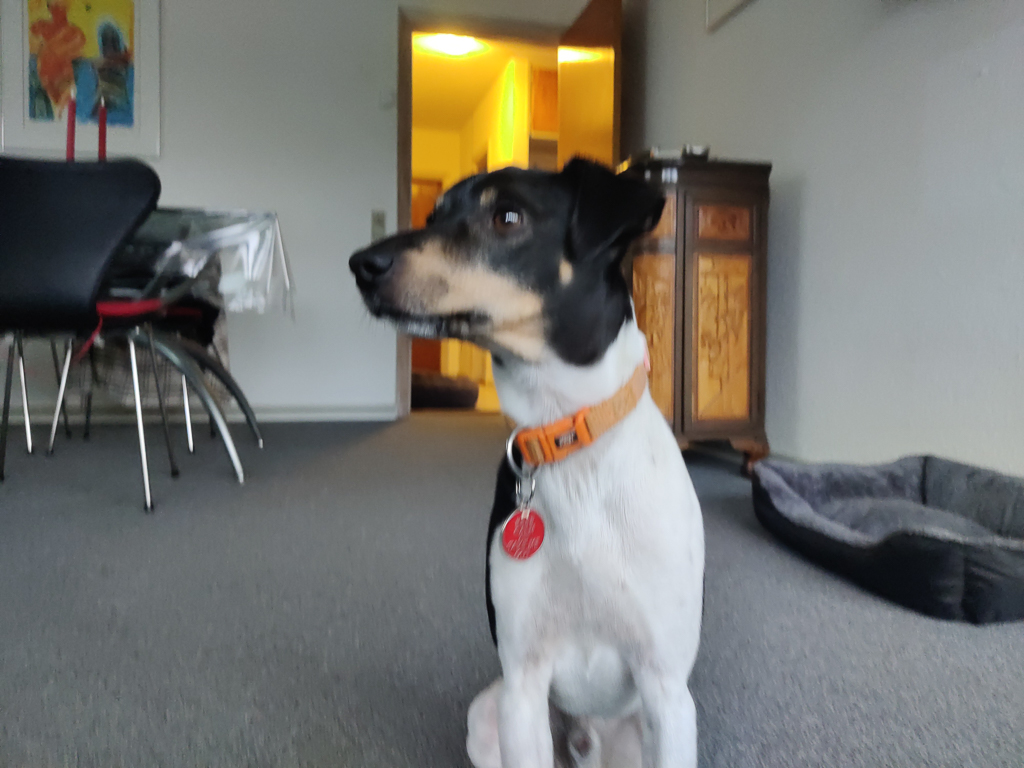Dog: (335, 139, 709, 768)
